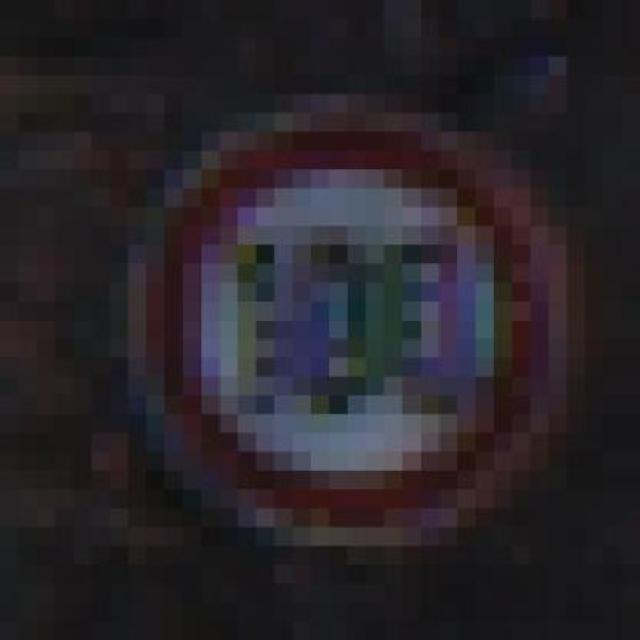forb_speed_over_100: (148, 116, 549, 530)
